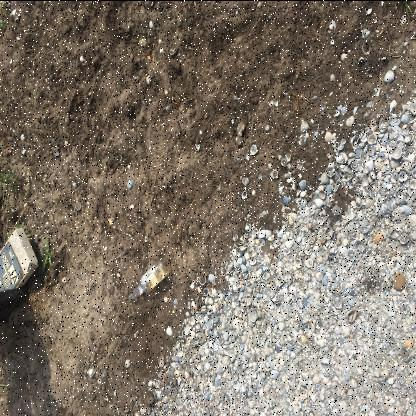glass: (128, 258, 171, 300)
